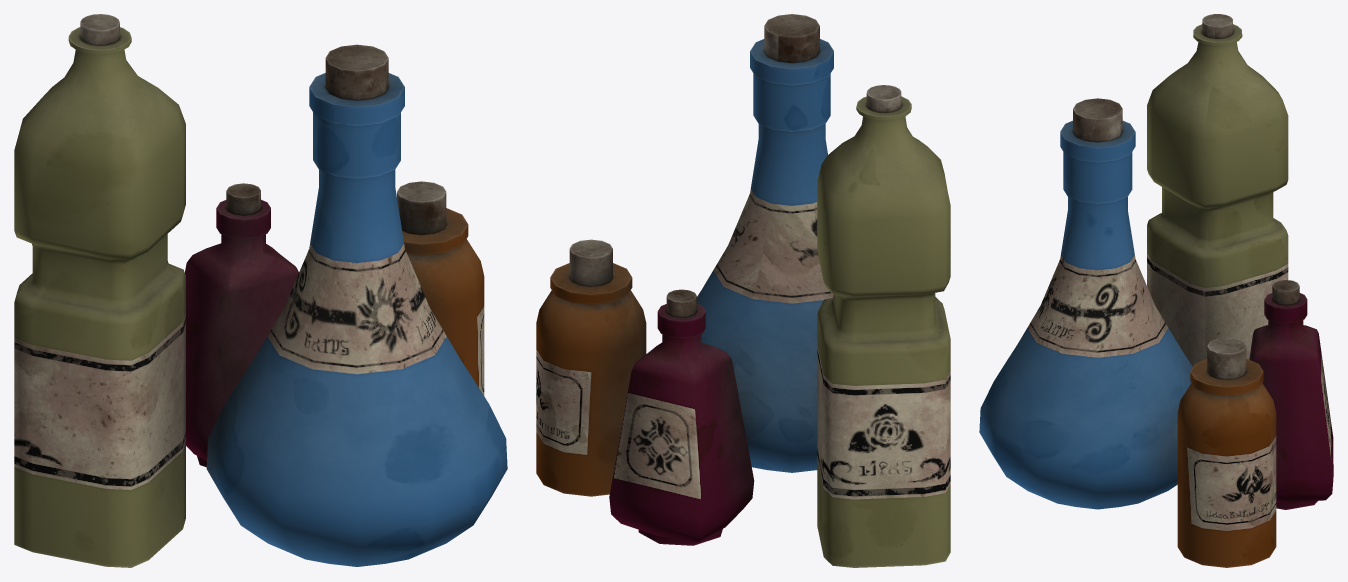
The model's file is DS_WizLab_Clut_GlassBottles.fbx.
3 views of the same model, side by side, from view 1: azimuth 30°, elevation 25°; view 2: azimuth 150°, elevation 25°; view 3: azimuth 270°, elevation 25° (orthographic). The views are drawn at different scales.
Visible parts, largest first — view 1: DS_WizLab_Clut_GlassBottles; view 2: DS_WizLab_Clut_GlassBottles; view 3: DS_WizLab_Clut_GlassBottles.
Boxes of the visible parts, x1,y1,x2,y2 form: DS_WizLab_Clut_GlassBottles: (14,14,507,567); DS_WizLab_Clut_GlassBottles: (536,14,950,567); DS_WizLab_Clut_GlassBottles: (979,14,1333,567).
Size of the model in its own units: 36.55 by 38.72 by 31.
Materials: 1 (1 with a texture image).
